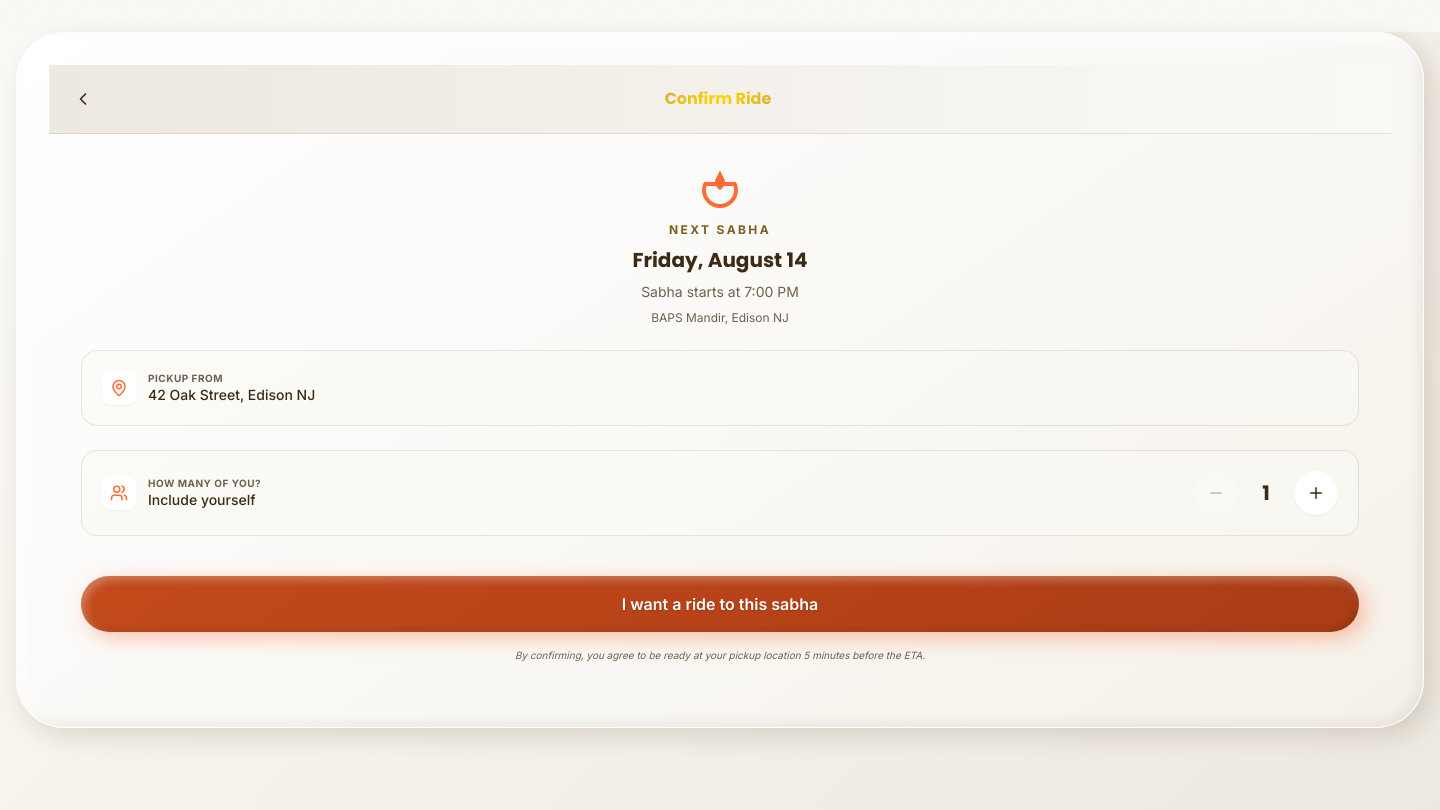
Test: PickupForm — confirmation › confirms the booking, and says how many it was for
The width and height of the screenshot is (1440, 810).
Click the button named "one more person" at (1316, 493), box [1294,471,1338,515]
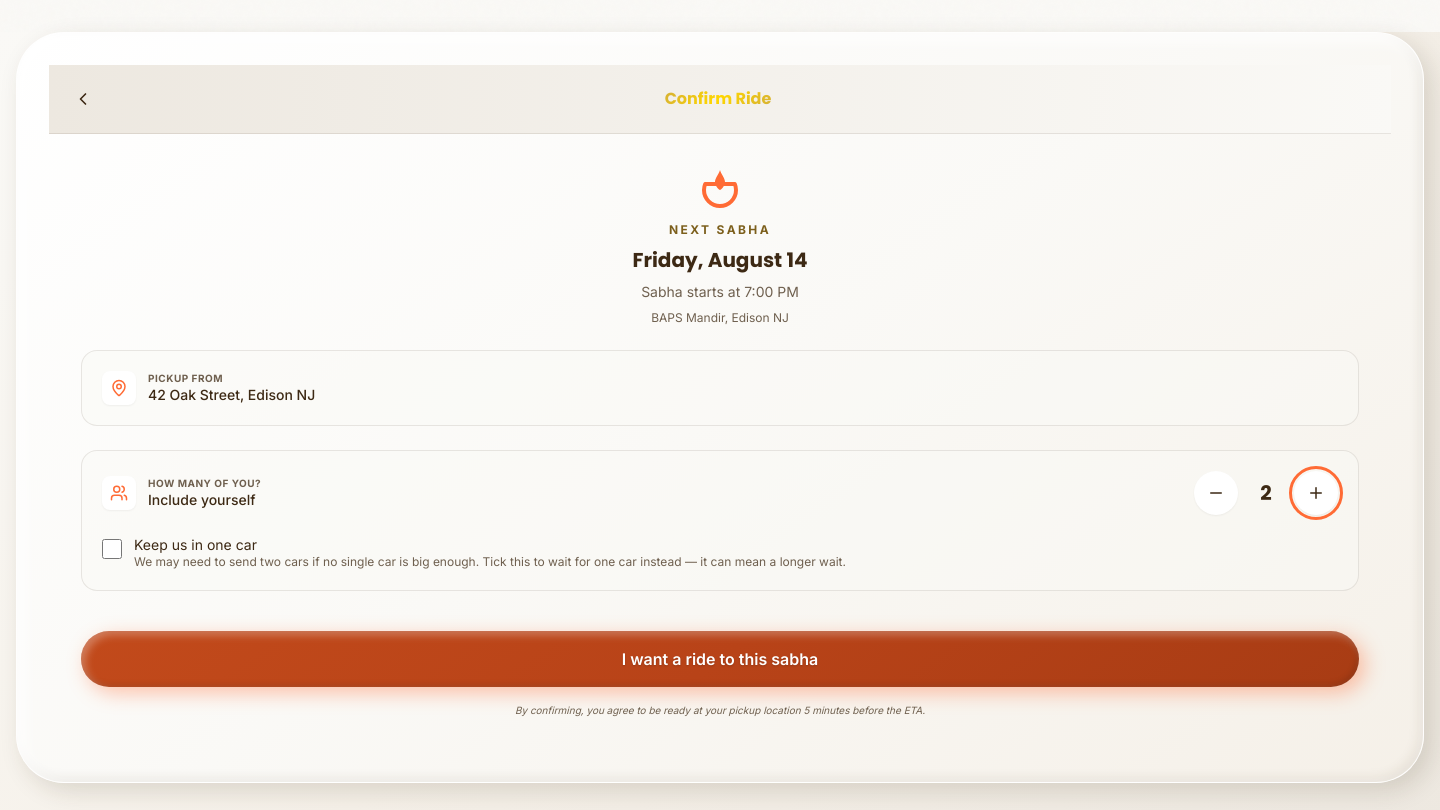
Click the button named "one more person" at (1316, 493), box [1294,471,1338,515]
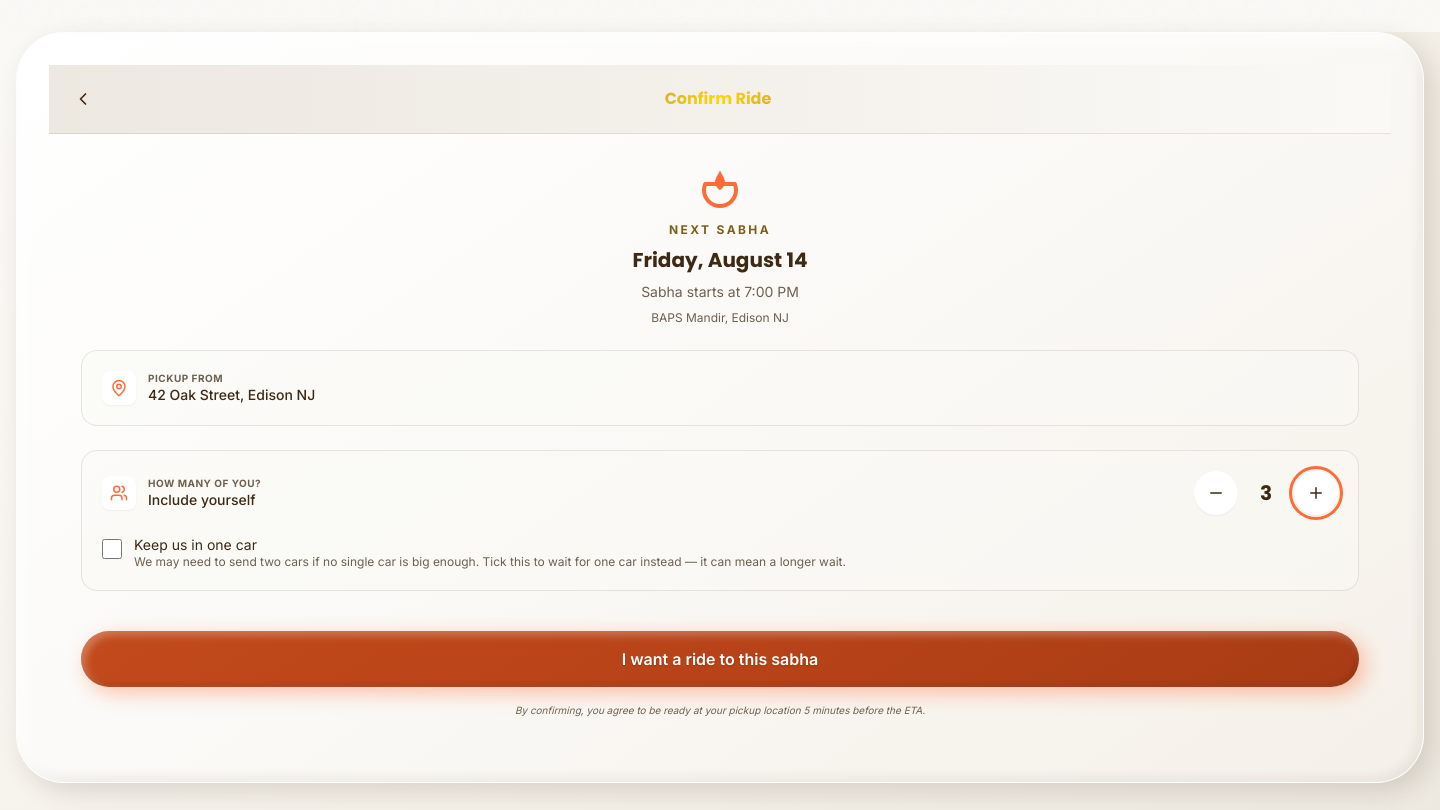
Click the button "I want a ride to this sabha" at (720, 659), box [81,631,1359,687]
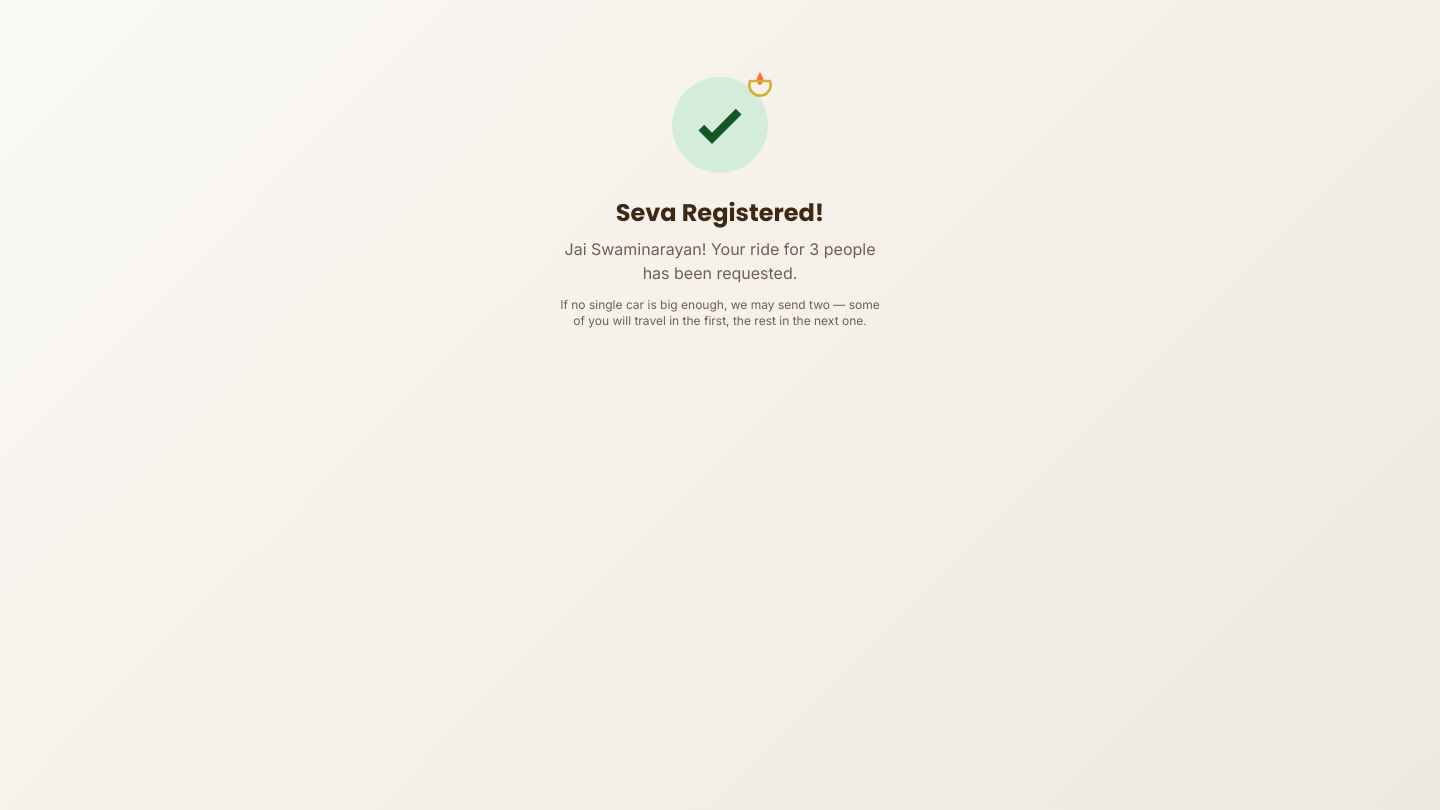
Check: the heading "Seva Registered!" is shown, box [616,196,824,228]
Check: the text "Jai Swaminarayan! Your ride for 3 people has been requested." is shown, box [560,236,880,284]
